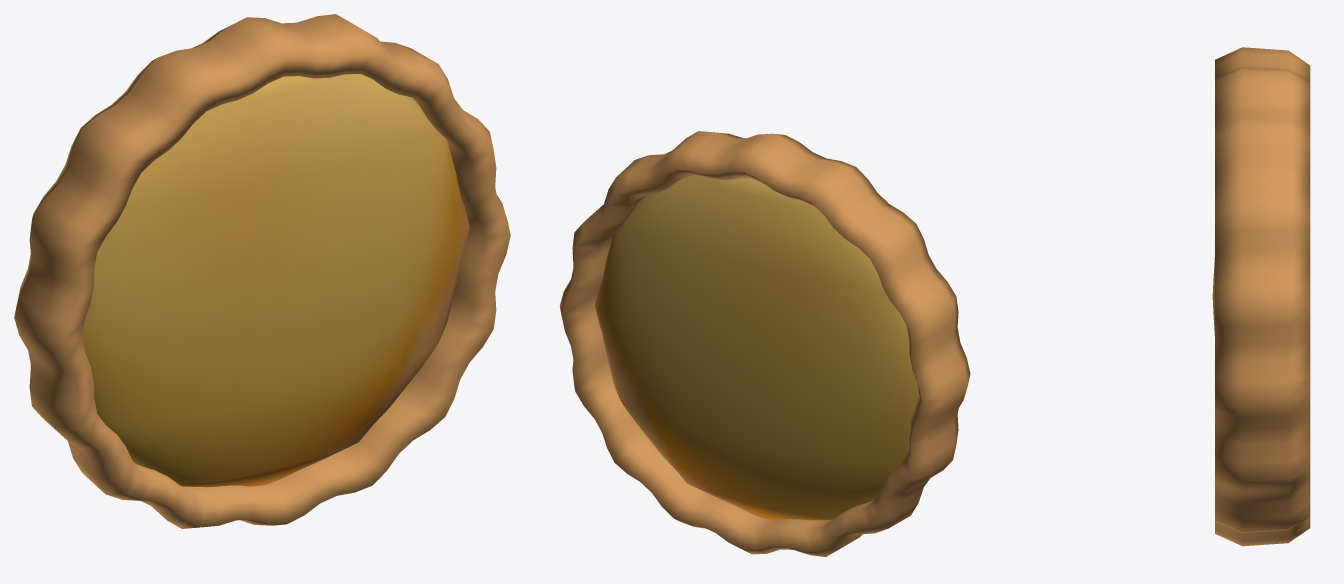
File: duck-eggtart.fbx
3 renders of one model, left to right at view 1: azimuth 30°, elevation 25°; view 2: azimuth 150°, elevation 25°; view 3: azimuth 270°, elevation 25°, orthographic. The views are drawn at different scales.
Parts seen in each view (by area): view 1: duck-eggtart; view 2: duck-eggtart; view 3: duck-eggtart.
Boxes of the visible parts, x1=… form: duck-eggtart: x1=14, y1=14, x2=510, y2=528; duck-eggtart: x1=559, y1=131, x2=970, y2=556; duck-eggtart: x1=1212, y1=47, x2=1310, y2=546.
Size of the model in its own units: 88.44 by 100 by 56.04.
